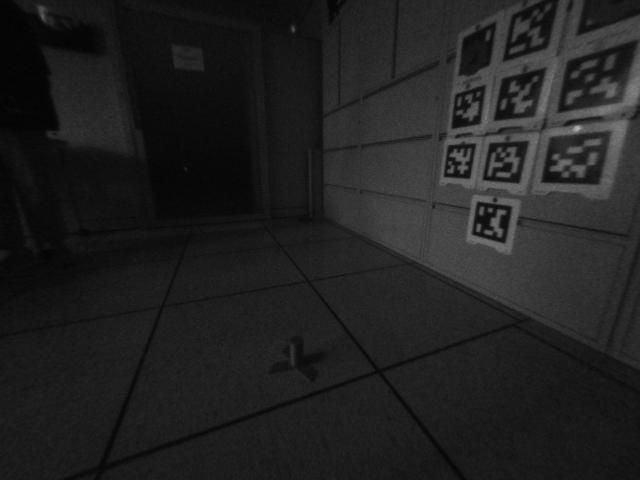x: (269, 333, 327, 389)
